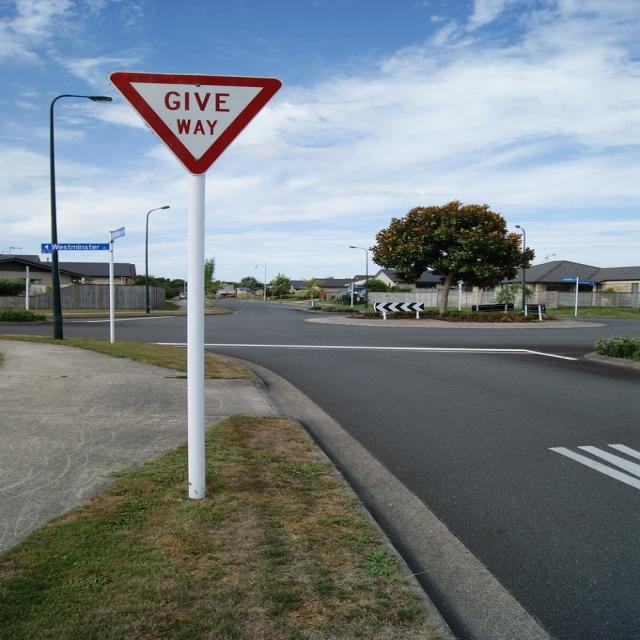Stop: (106, 69, 283, 176)
